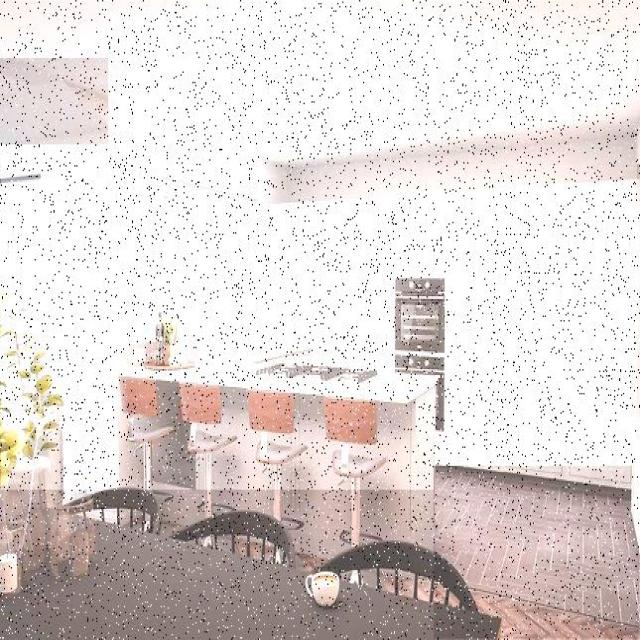Wall: (1, 100, 637, 490), (0, 1, 640, 164), (434, 468, 640, 639), (0, 60, 108, 144), (297, 557, 317, 569)
